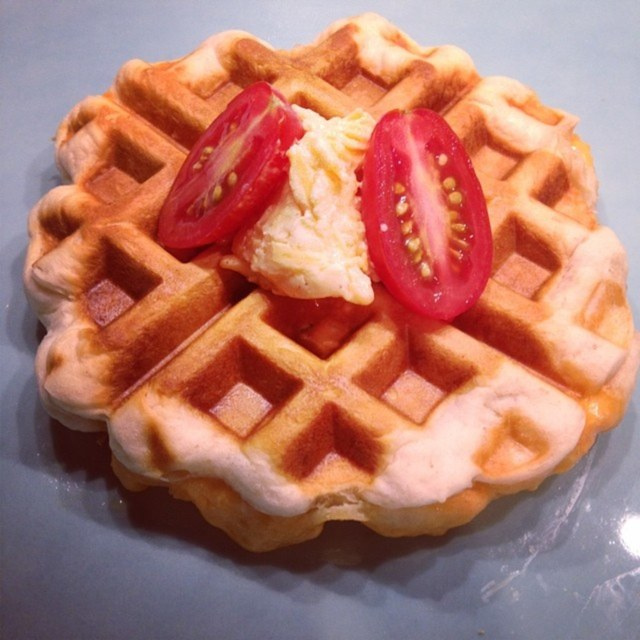tomato: (362, 107, 493, 320), (158, 80, 304, 250)
